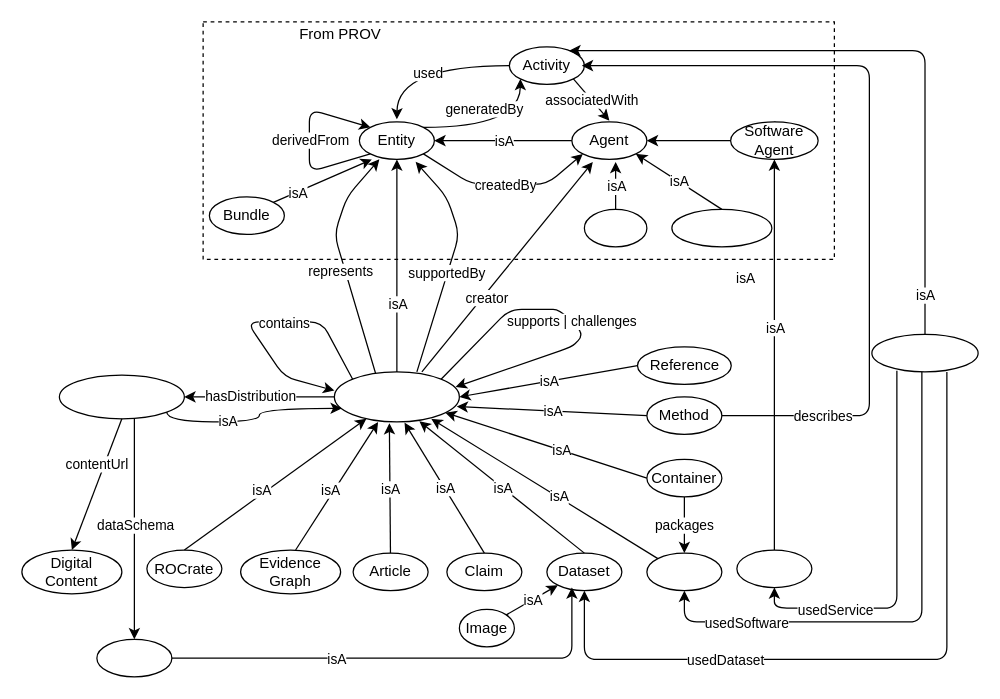
The diagram is 1000 pixels wide and 699 high, and some of its shapes have lost their labels. The shapes that lost their labels are listed below. From the top down, each one's centre as x and y in pixels, then its label:
At (x=615, y=227): "Person".
At (x=721, y=227): "Organization".
At (x=924, y=352): "Computation".
At (x=121, y=396): "Distribution".
At (x=396, y=396): "DigitalObject".
At (x=684, y=571): "Software".
At (x=774, y=568): "Service".
At (x=134, y=657): "Schema".
